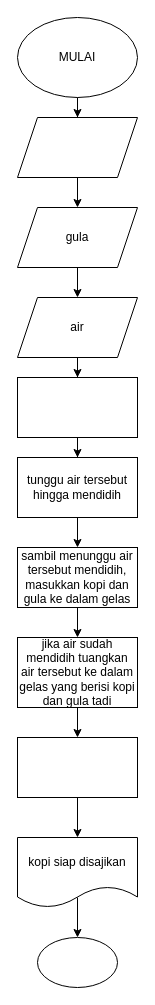
Some shapes in this 155 by 1005 pixel diagram are drawn without their labels. The shapes that lost their labels are listed below. From the top down, each one's centre as x and y in pixels, then its label:
point (77, 147): kopi
point (77, 407): siapkan panci lalu rebus air di dalam panci tersebut
point (77, 767): aduk hingga merata
point (77, 962): SELESAI
